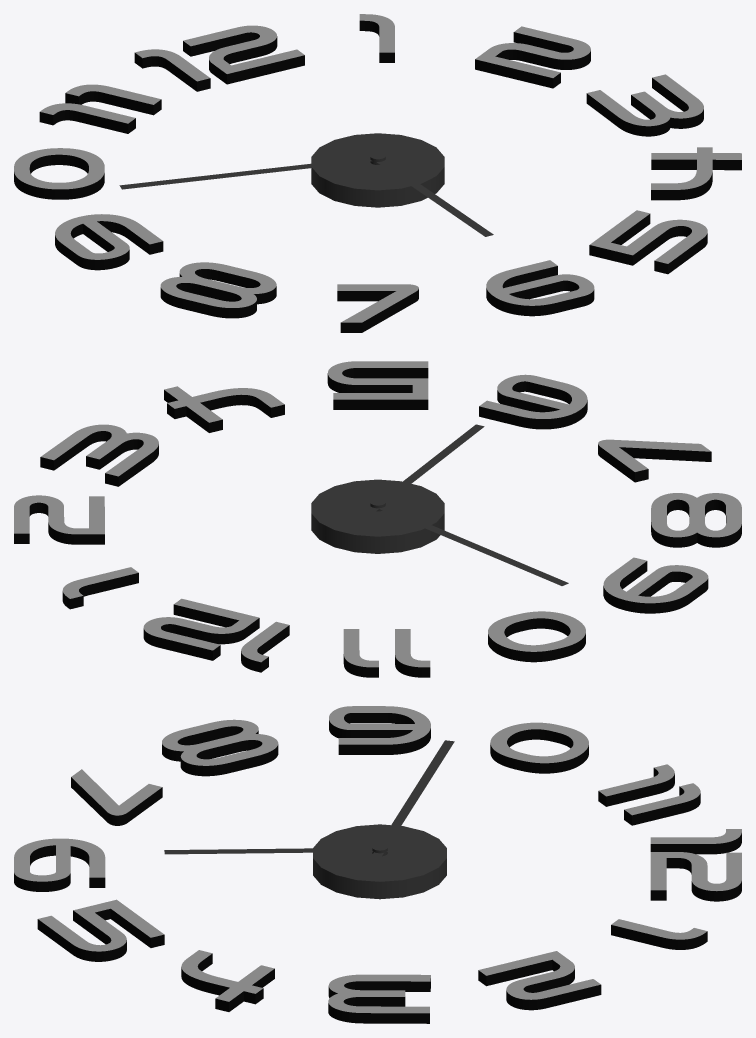
The model's file is Oclock1.FBX.
The picture shows the model from 3 angles, top to bottom: view 1: azimuth 30°, elevation 25°; view 2: azimuth 150°, elevation 25°; view 3: azimuth 270°, elevation 25°; orthographic projection.
Visible parts, largest first — view 1: Text011, sa3a, Plane002; view 2: Text011, sa3a, Plane002; view 3: Text011, sa3a, Plane002.
Boxes of the visible parts, <box> form: Text011: <box>14,14,741,332</box>; sa3a: <box>311,133,444,207</box>; Plane002: <box>119,147,493,236</box>; Text011: <box>14,361,741,677</box>; sa3a: <box>311,479,444,553</box>; Plane002: <box>335,424,568,585</box>; Text011: <box>14,706,741,1023</box>; sa3a: <box>313,824,446,899</box>; Plane002: <box>164,740,454,872</box>.
Bounding box in the file's own units: 1898 × 66.85 × 1900.
2 materials, 1 textured.
